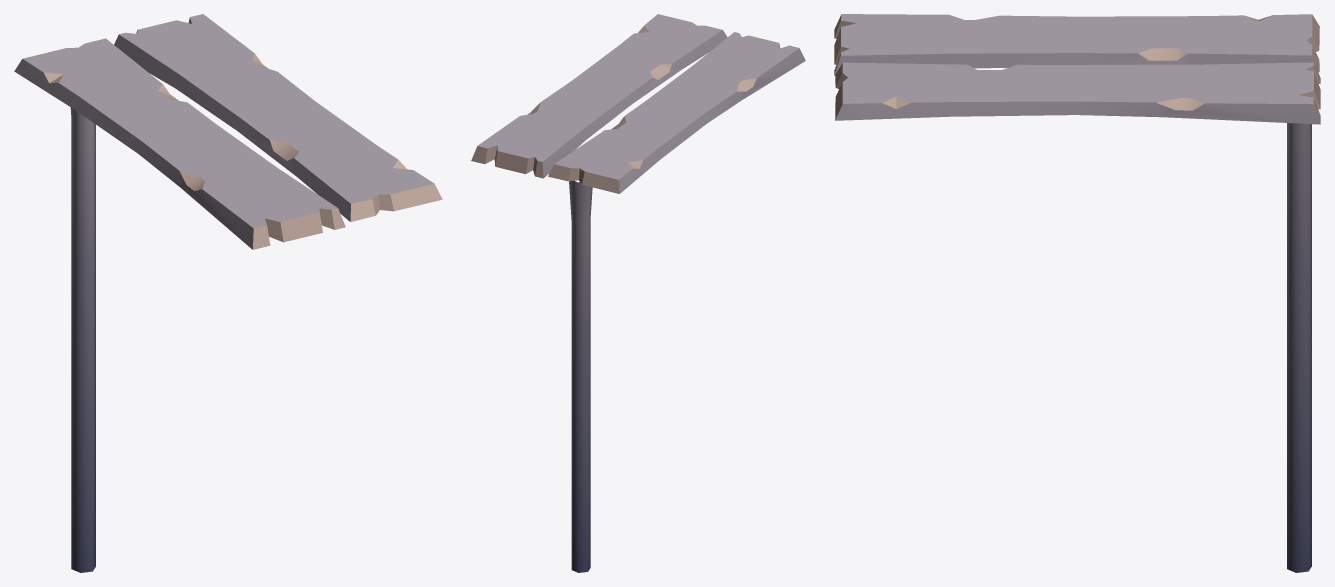
Rendered from Lane-forest_gap_fill_L.glb.
3 renders of one model, left to right at view 1: azimuth 30°, elevation 25°; view 2: azimuth 150°, elevation 25°; view 3: azimuth 270°, elevation 25°, orthographic. The views are drawn at different scales.
Parts seen in each view (by area): view 1: Lane-forest_gap_fill_L; view 2: Lane-forest_gap_fill_L; view 3: Lane-forest_gap_fill_L.
Part boxes in pixels (x1=…): Lane-forest_gap_fill_L: x1=14, y1=14, x2=442, y2=572; Lane-forest_gap_fill_L: x1=471, y1=14, x2=805, y2=572; Lane-forest_gap_fill_L: x1=834, y1=14, x2=1320, y2=572.
Bounding box in the file's own units: 2.7 × 6.99 × 5.86.
